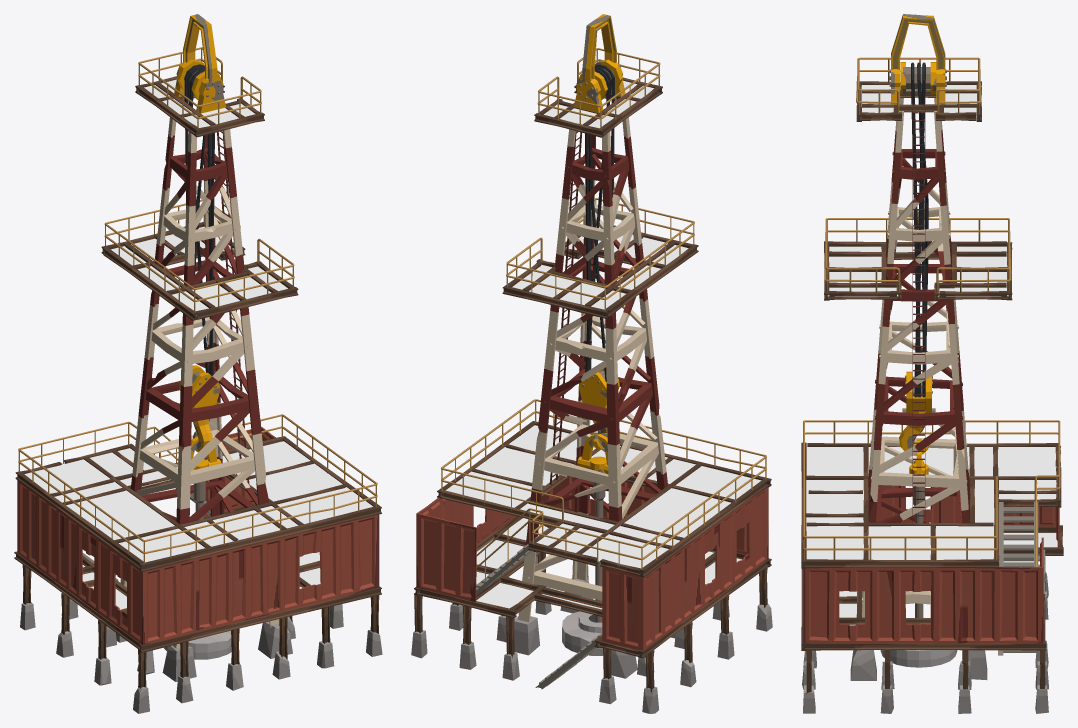
File: GasTower.glb
3 renders of one model, left to right at view 1: azimuth 30°, elevation 25°; view 2: azimuth 150°, elevation 25°; view 3: azimuth 270°, elevation 25°, orthographic. The views are drawn at different scales.
Visible parts, largest first — view 1: GasTower, GasTowerFloor; view 2: GasTower, GasTowerFloor; view 3: GasTower, GasTowerFloor.
Part boxes in pixels (x1,y1,x2,y2): GasTower: [14, 14, 382, 713]; GasTowerFloor: [24, 79, 373, 609]; GasTower: [411, 14, 772, 713]; GasTowerFloor: [445, 80, 761, 609]; GasTower: [801, 14, 1063, 713]; GasTowerFloor: [806, 85, 1057, 625].
Bounding box in the file's own units: 11.11 × 27.25 × 10.15.
2 materials, 1 textured.
